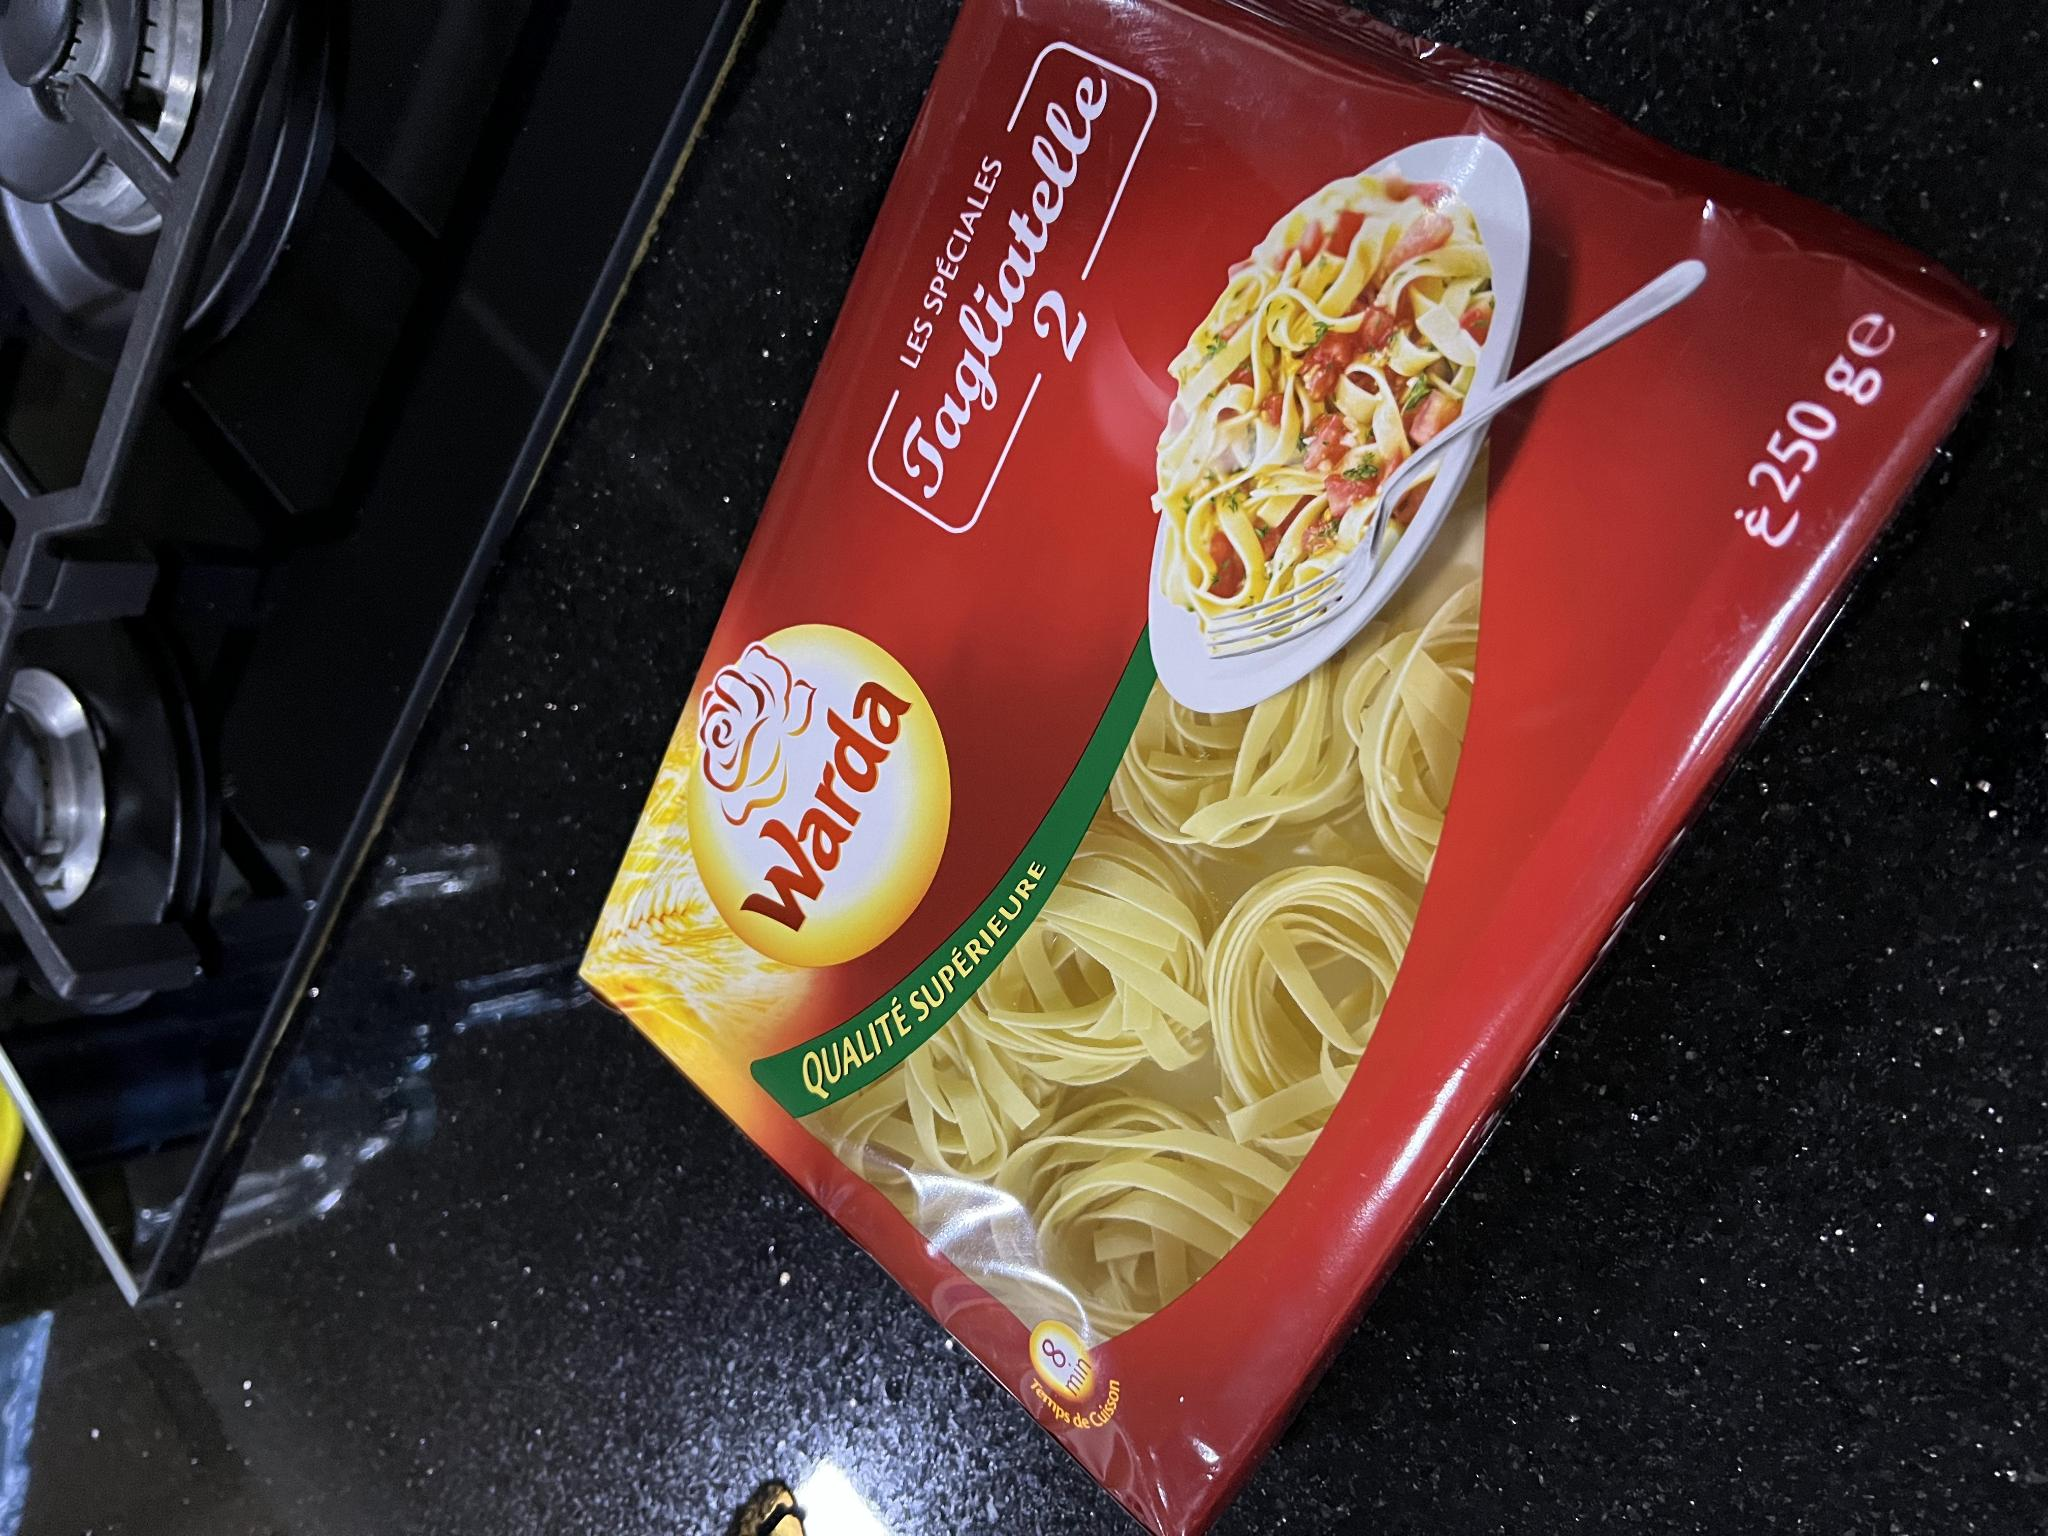Tagliatelle: (581, 6, 1983, 1502)
